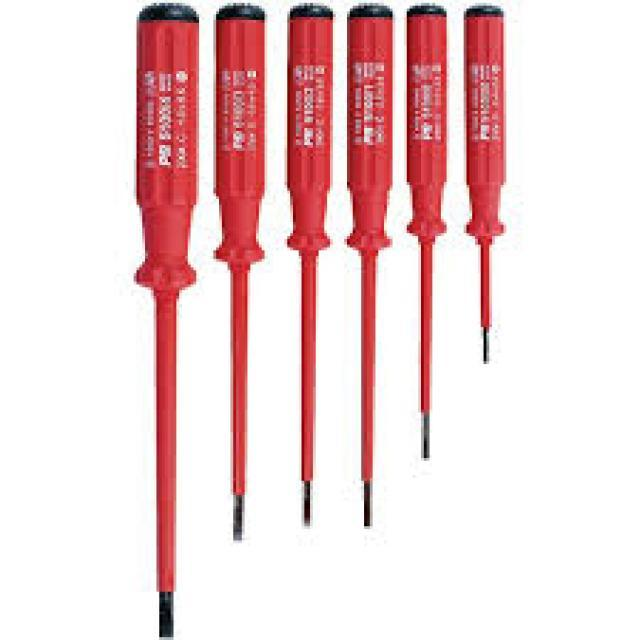screwdriver: (132, 0, 201, 640), (212, 0, 269, 546), (343, 0, 397, 529), (283, 0, 334, 535), (402, 0, 447, 469), (463, 0, 512, 364)
